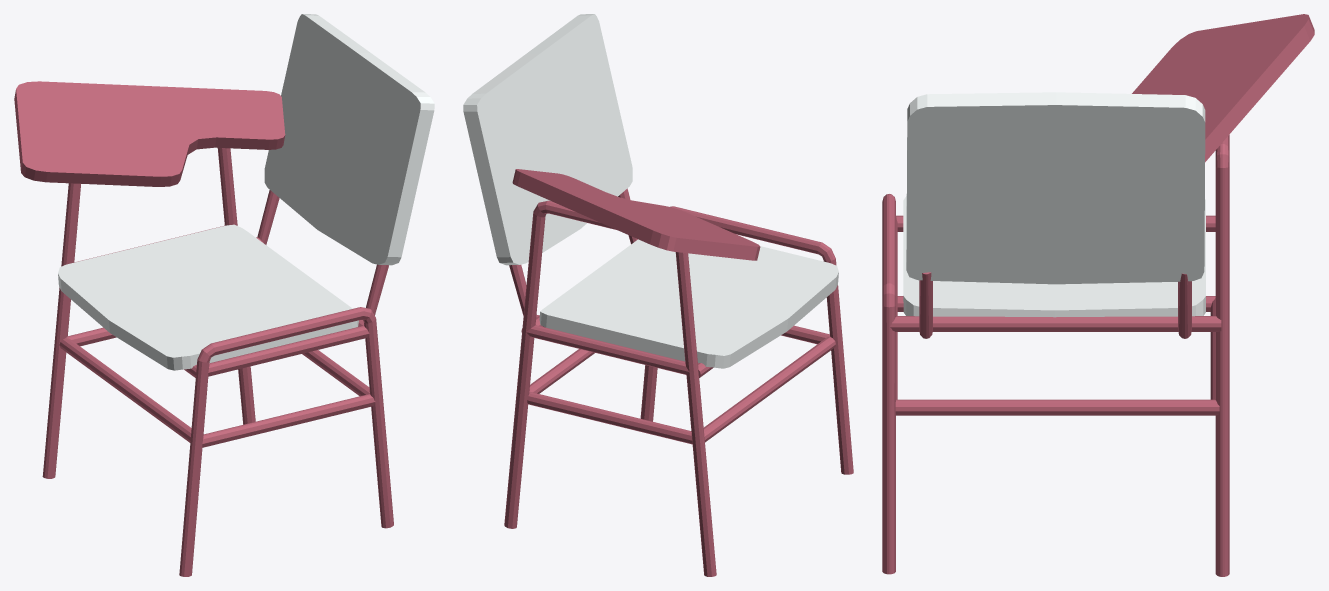
File: carteira_sala2.fbx
3 renders of one model, left to right at view 1: azimuth 30°, elevation 25°; view 2: azimuth 150°, elevation 25°; view 3: azimuth 270°, elevation 25°, orthographic. The views are drawn at different scales.
Parts seen in each view (by area): view 1: Carteira_sala.004; view 2: Carteira_sala.004; view 3: Carteira_sala.004.
Part boxes in pixels (x1,y1,x2,y2): Carteira_sala.004: [14, 14, 434, 576]; Carteira_sala.004: [463, 14, 853, 576]; Carteira_sala.004: [882, 14, 1314, 576].
Size of the model in its own units: 77.73 by 105 by 81.53.
